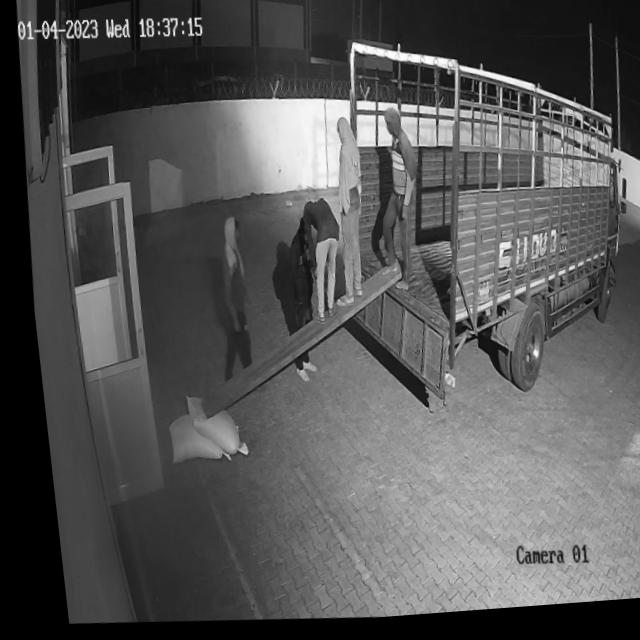sack: (172, 392, 241, 463), (155, 413, 223, 467)
